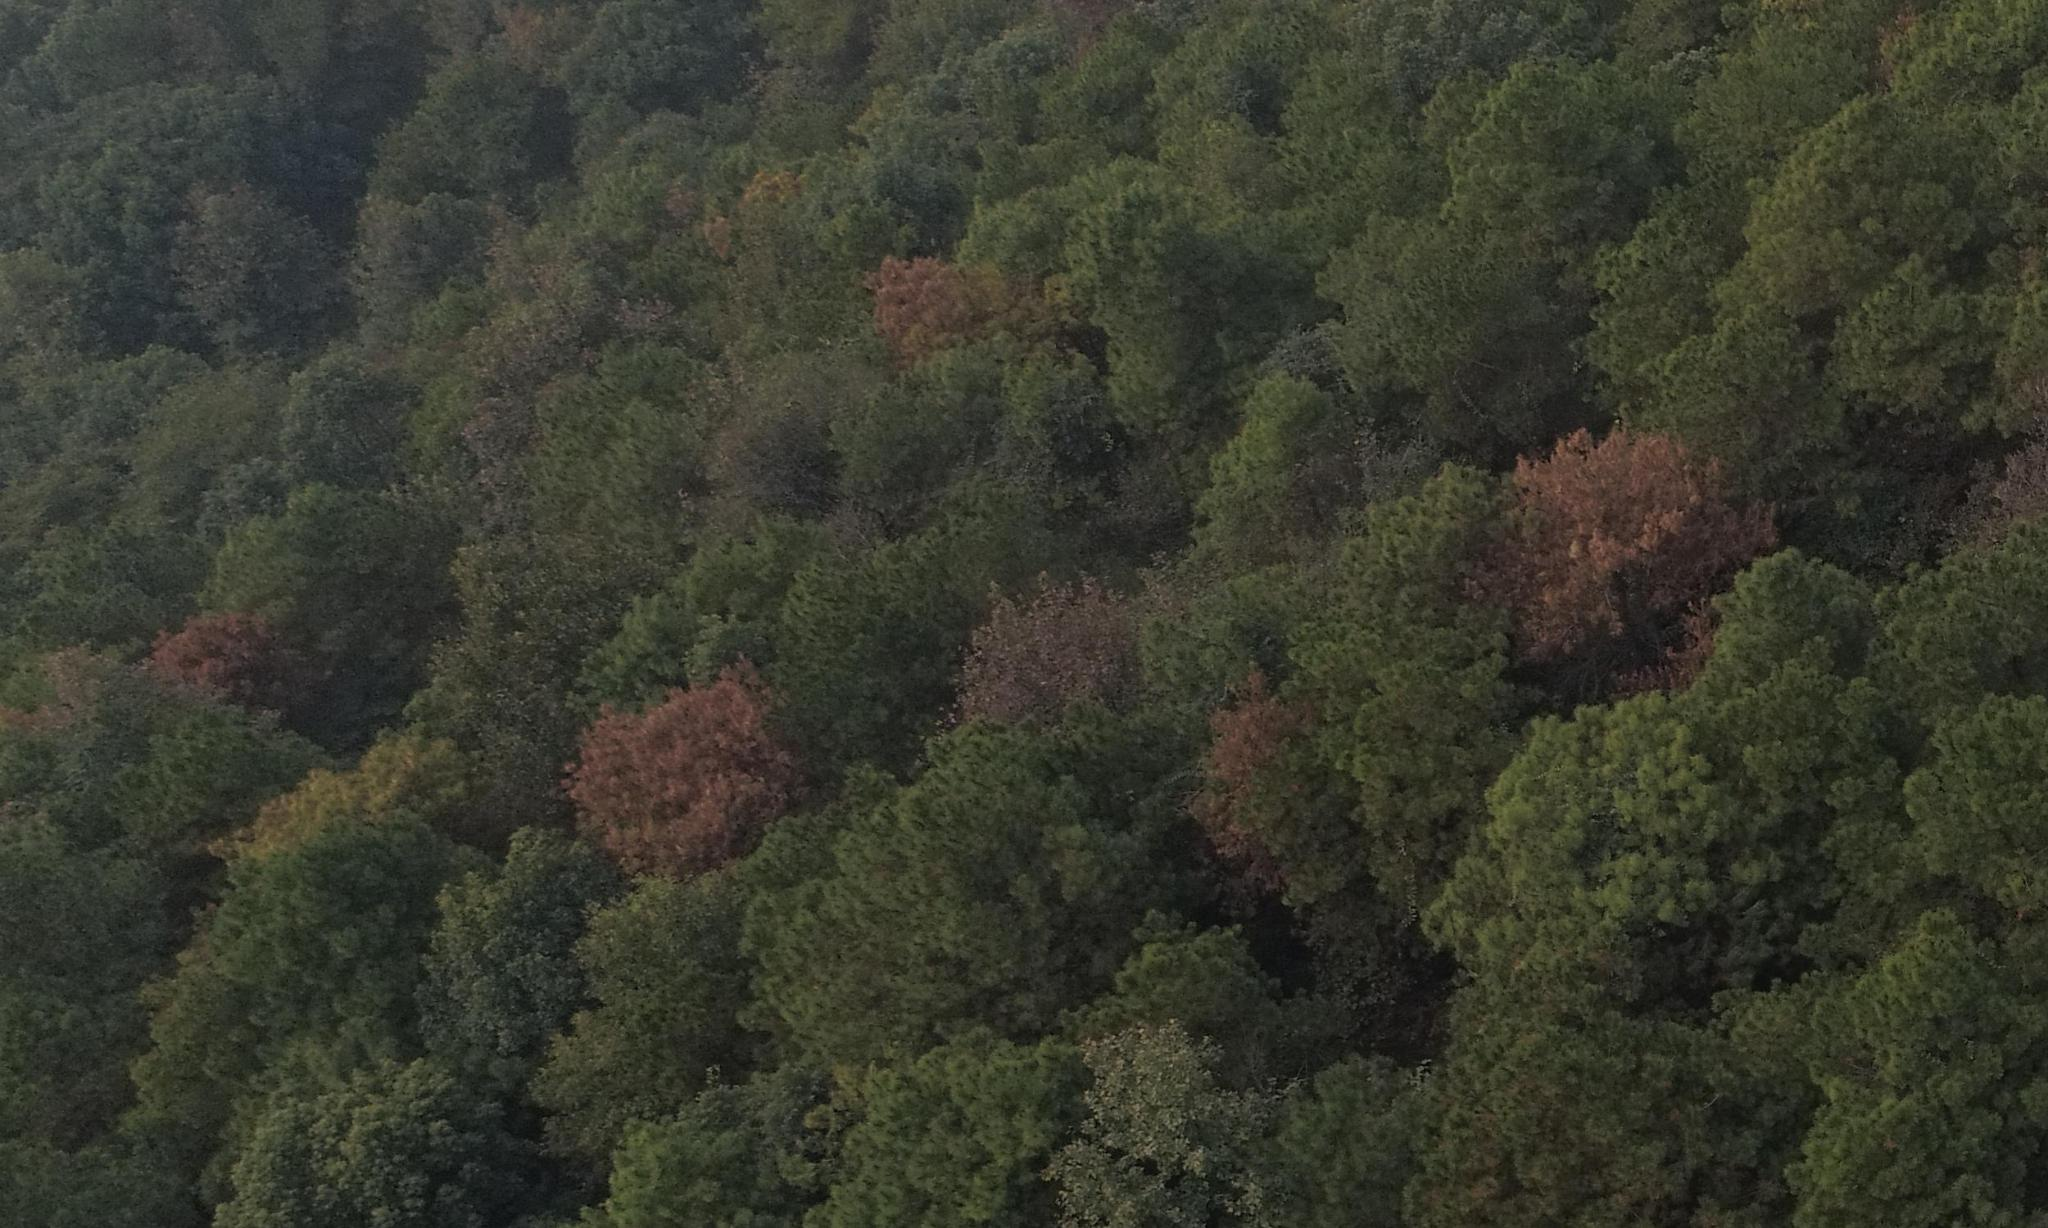heavy: (1482, 447, 1744, 662), (574, 677, 792, 864), (873, 260, 1012, 357), (155, 615, 311, 700)
